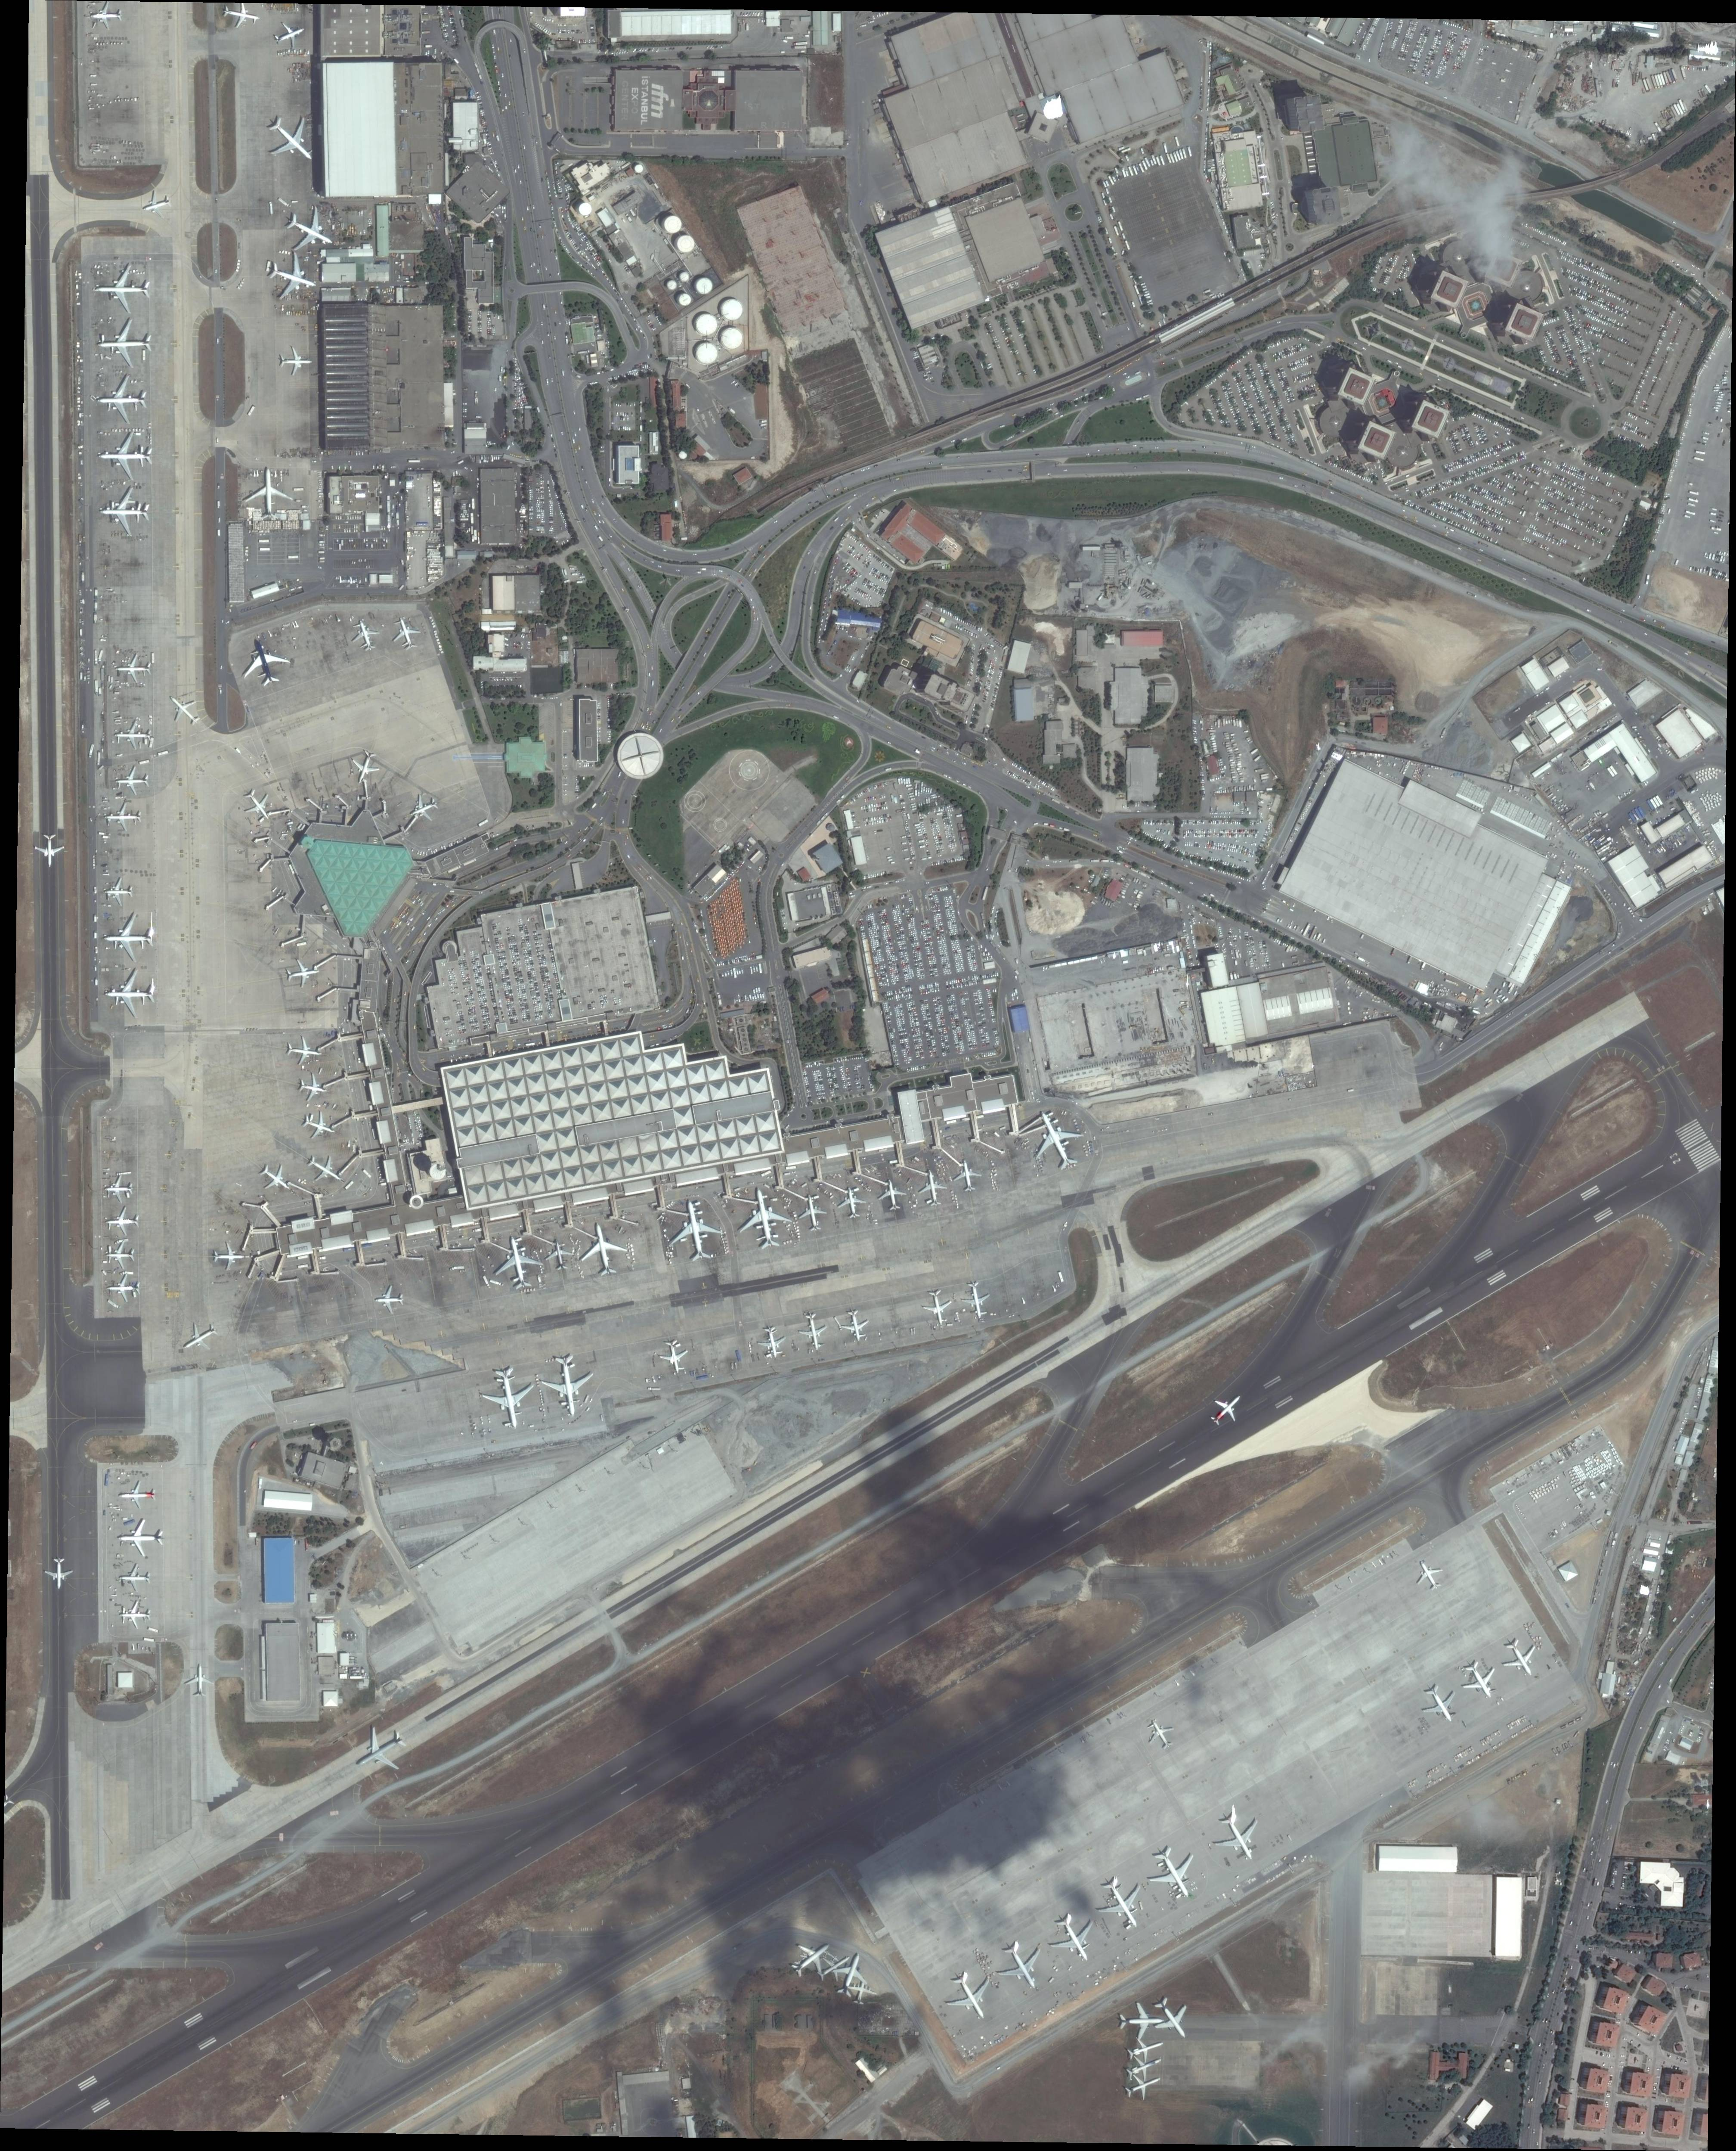plane: (1019, 1102, 1100, 1182), (338, 1713, 420, 1786), (253, 101, 331, 175), (930, 1960, 1008, 2032), (1137, 1839, 1212, 1912), (1199, 1802, 1277, 1871), (987, 1930, 1059, 2002), (661, 1196, 733, 1269), (730, 1184, 801, 1256), (1086, 1868, 1159, 1938), (475, 1363, 546, 1435), (1040, 1905, 1112, 1974), (273, 198, 347, 264), (484, 1230, 551, 1297), (230, 631, 299, 696), (257, 245, 324, 310), (539, 1352, 602, 1421), (572, 1217, 638, 1281), (1143, 1988, 1203, 2048), (241, 464, 299, 524), (1410, 1674, 1470, 1733), (1490, 1630, 1548, 1687), (1451, 1653, 1509, 1708), (92, 262, 152, 315), (99, 431, 156, 485), (101, 967, 159, 1021), (781, 1930, 840, 1983), (96, 317, 156, 369), (103, 911, 158, 966), (824, 1945, 877, 2002), (97, 487, 154, 539), (96, 374, 151, 425), (158, 686, 211, 735), (1201, 1384, 1251, 1433), (234, 780, 283, 827), (175, 1315, 225, 1361), (267, 14, 314, 60), (810, 1945, 857, 1990), (115, 1517, 167, 1557), (299, 1148, 349, 1189), (1116, 2000, 1167, 2039), (1118, 2068, 1169, 2107), (1139, 1713, 1185, 1756), (402, 787, 446, 829), (384, 613, 427, 657), (344, 615, 388, 657), (1407, 1554, 1451, 1596), (914, 1166, 955, 1212), (296, 1106, 342, 1146), (253, 1157, 299, 1198), (1121, 2031, 1169, 2068), (345, 746, 386, 788), (957, 1279, 997, 1322), (918, 1286, 960, 1327), (795, 1191, 834, 1235), (289, 1070, 335, 1107), (282, 1033, 328, 1070), (136, 184, 177, 225), (833, 1184, 873, 1224), (873, 1173, 912, 1215), (282, 955, 326, 992), (1121, 2050, 1167, 2085), (836, 1306, 877, 1345), (794, 1311, 833, 1352), (216, 4, 264, 35), (751, 1322, 792, 1359), (949, 1157, 987, 1196), (542, 1239, 581, 1276), (112, 718, 154, 751), (119, 1478, 161, 1511), (113, 652, 154, 686), (103, 799, 143, 833), (182, 1662, 216, 1701), (117, 1598, 156, 1632), (278, 344, 315, 377), (657, 1340, 691, 1377), (115, 765, 154, 797), (106, 1272, 145, 1304), (43, 1556, 76, 1591), (34, 833, 66, 870), (105, 1207, 142, 1239), (103, 1173, 138, 1205), (374, 1285, 409, 1316), (211, 1242, 246, 1274), (103, 875, 136, 907), (89, 2, 124, 32), (105, 1240, 136, 1270), (119, 1563, 152, 1591)
storage tank: (613, 728, 668, 783), (693, 340, 719, 365), (719, 298, 746, 322), (719, 326, 744, 351), (694, 314, 719, 337), (671, 236, 696, 257), (661, 214, 684, 234), (693, 276, 714, 296), (677, 292, 693, 307), (579, 202, 592, 216), (666, 280, 678, 292), (678, 271, 691, 283), (678, 450, 687, 461), (634, 165, 643, 174)
